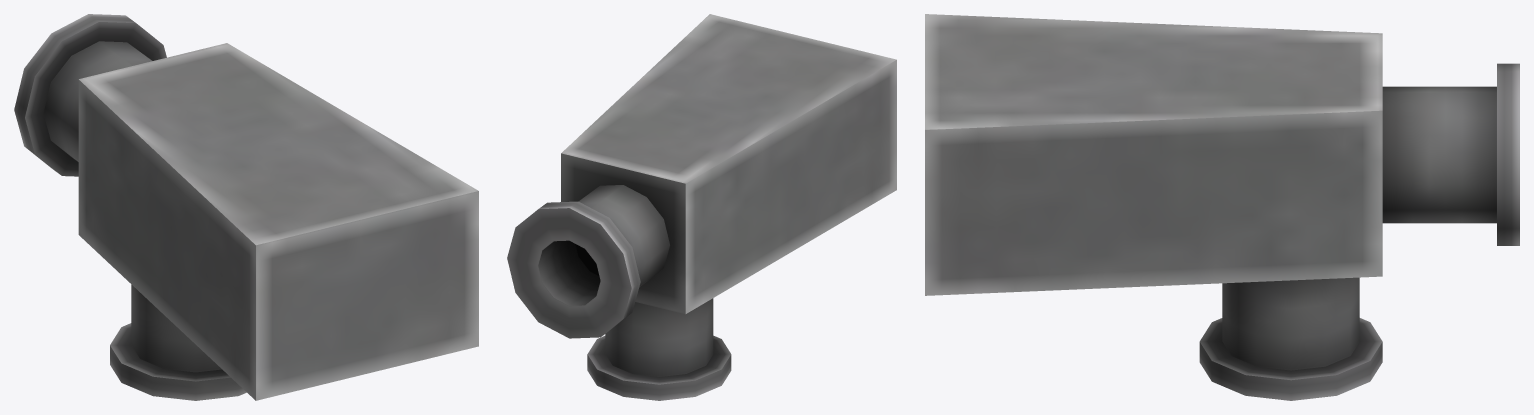
File: sp_rcs_srf_1_ex.obj
3 renders of one model, left to right at view 1: azimuth 30°, elevation 25°; view 2: azimuth 150°, elevation 25°; view 3: azimuth 270°, elevation 25°, orthographic. The views are drawn at different scales.
Visible parts, largest first — view 1: mesh1; view 2: mesh1; view 3: mesh1.
Part boxes in pixels (x1,y1,x2,y2): mesh1: (14,14,478,400); mesh1: (507,14,896,400); mesh1: (925,14,1519,400).
Size of the model in its own units: 0.075 by 0.0875 by 0.1625.
Materials: 1 (1 with a texture image).
